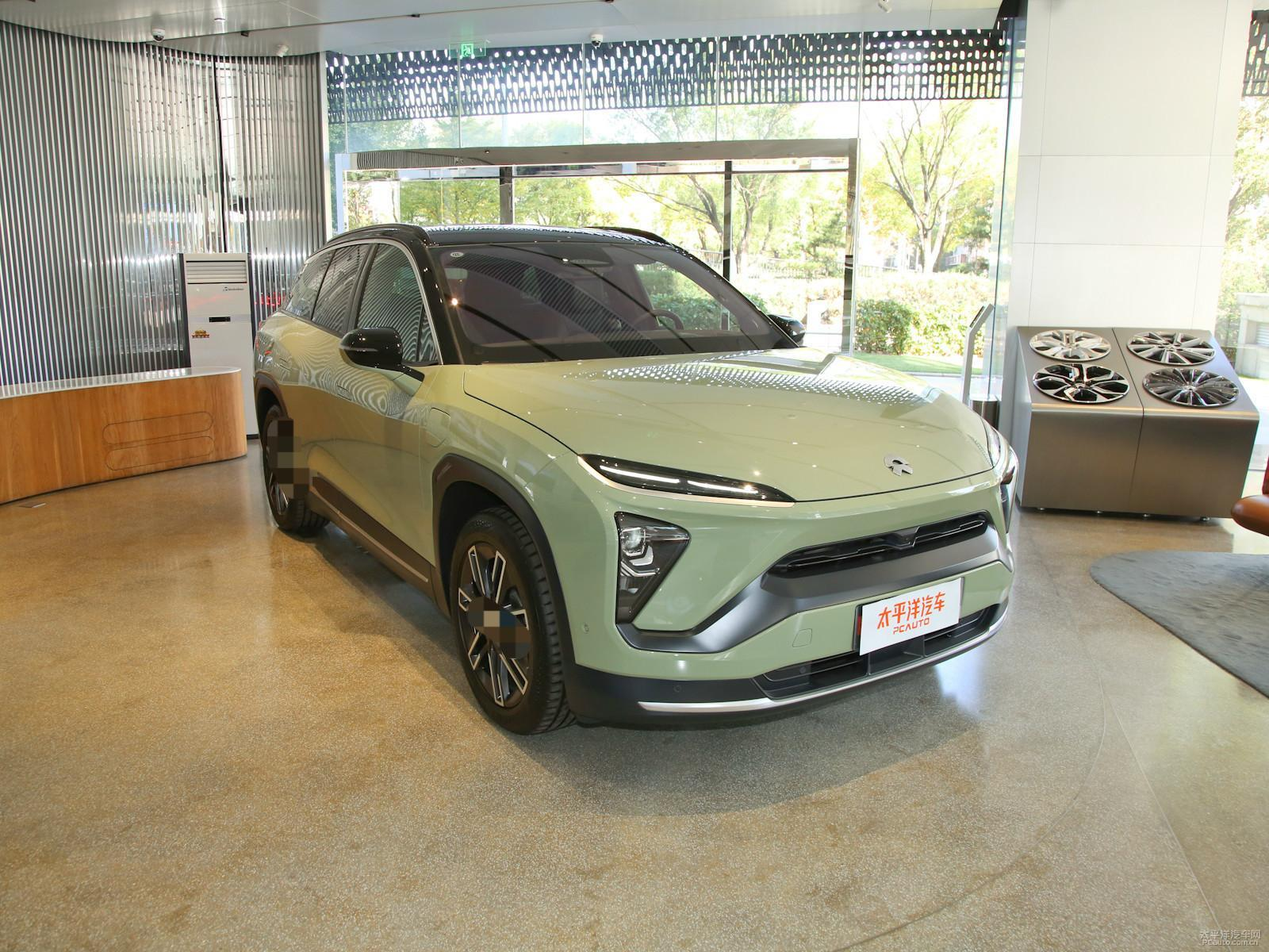NIO: (883, 454, 914, 477)
